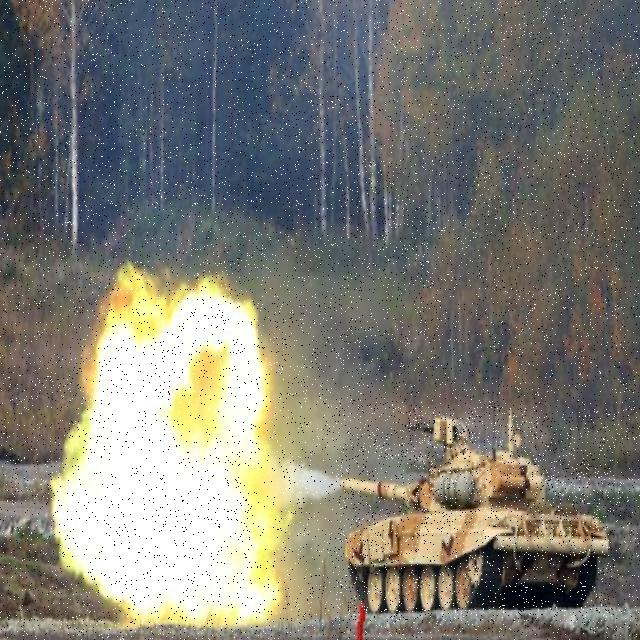MIL_MBT: (336, 405, 615, 621)
